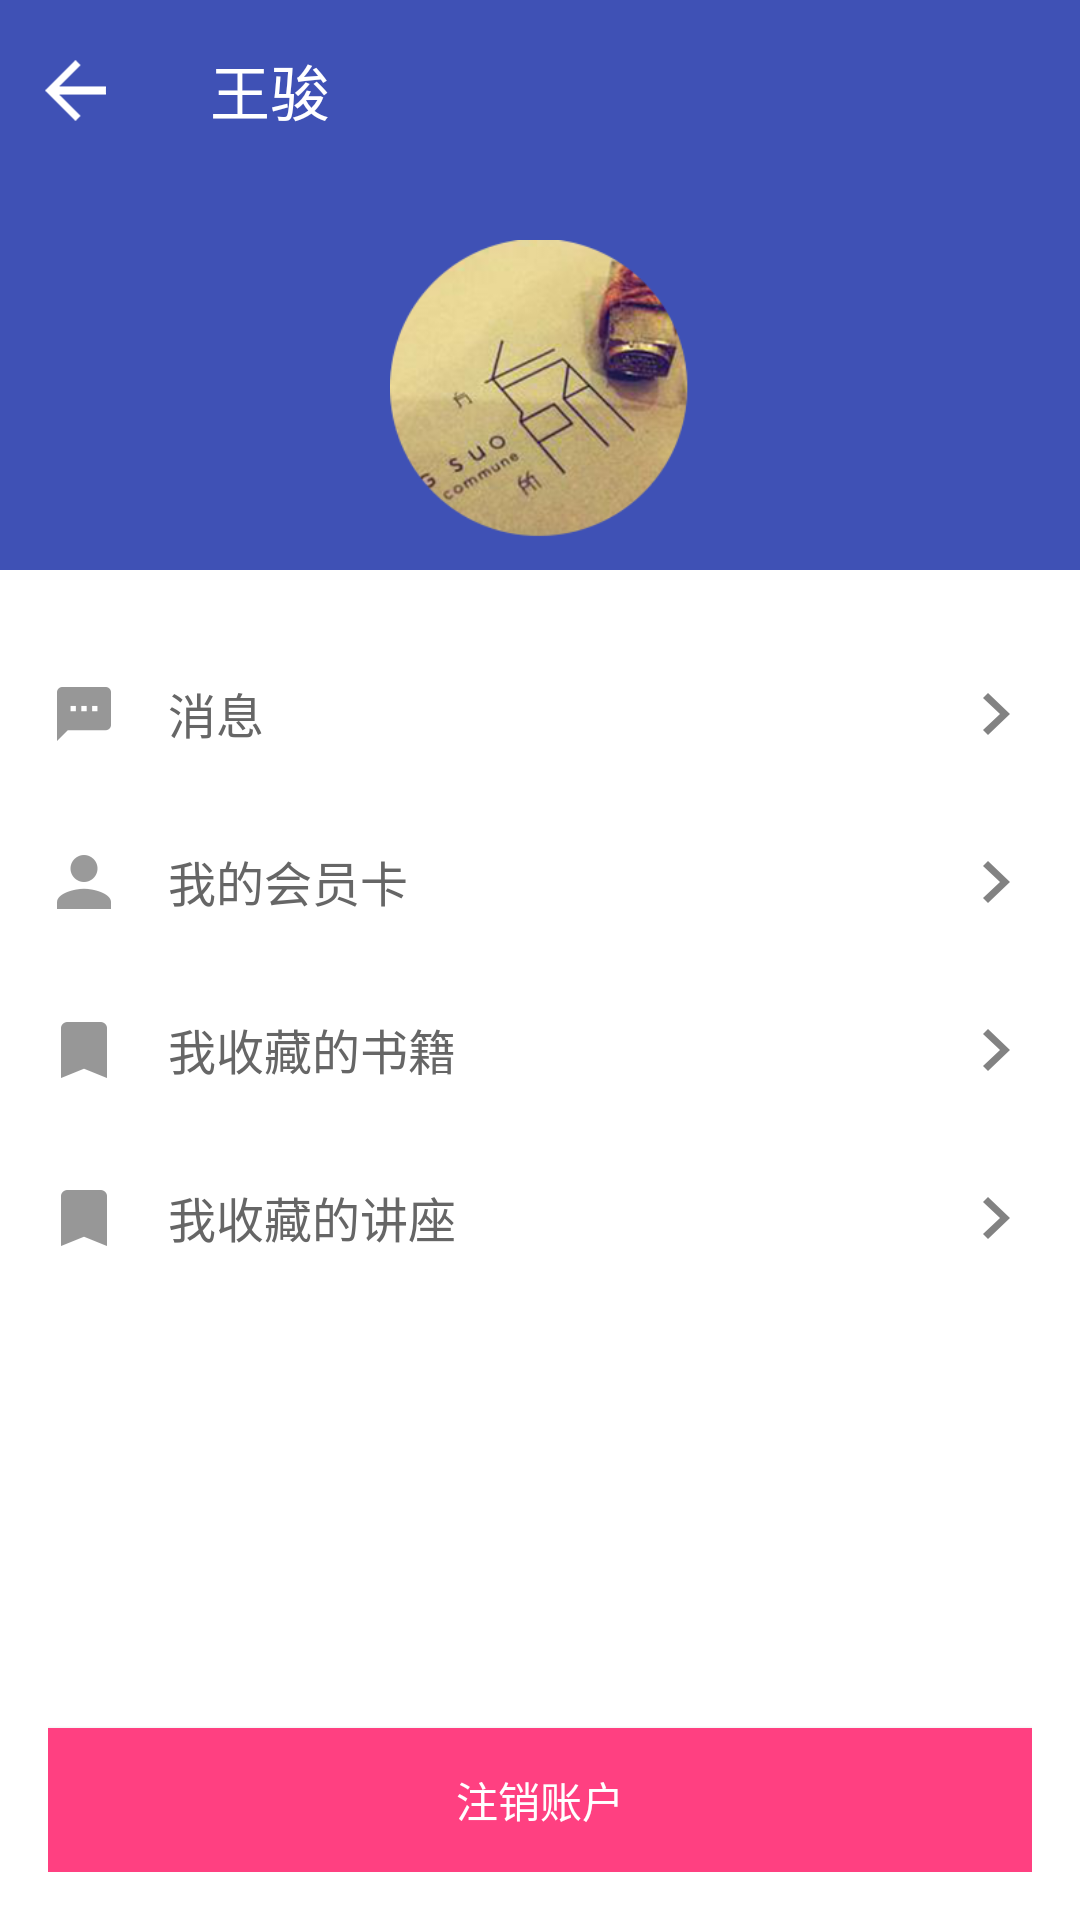

Where icons sit on this 1080*1920 app screen, as (x1, y1, x2, y2):
back: (45, 60, 106, 121)
collect: (61, 1022, 107, 1078), (61, 1190, 107, 1246)
head: (390, 240, 688, 536)
persion me: (57, 855, 111, 909)
persion message: (57, 687, 111, 741)
